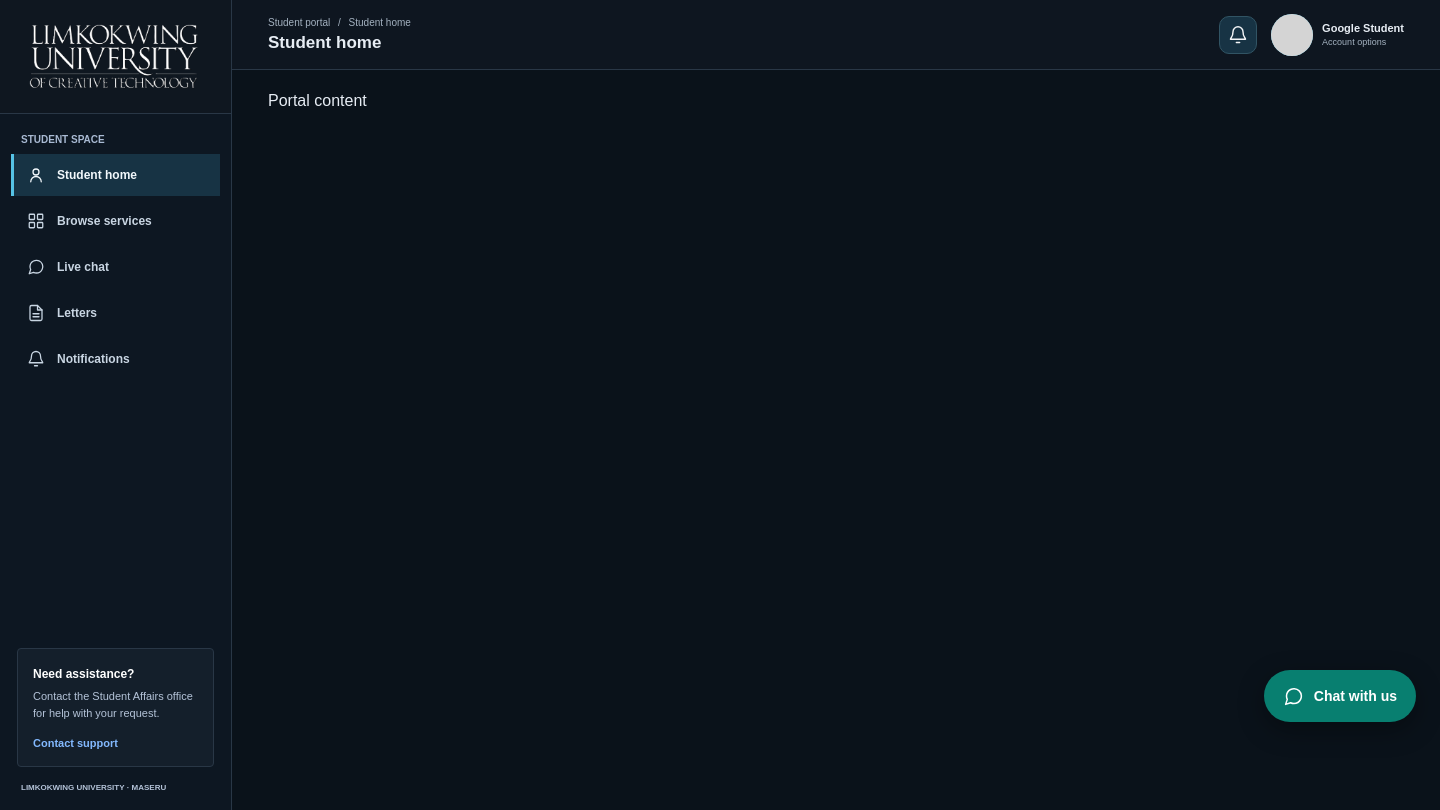
Scenario: student account menu links to letters and opens a Google-photo profile before sign-out
The image size is (1440, 810).
What coordinates should you click on to do the following:
click the button with aria-label "Account menu for Google Student"
I would click on:
 (1338, 34)
Its box is [1271,14,1404,56].
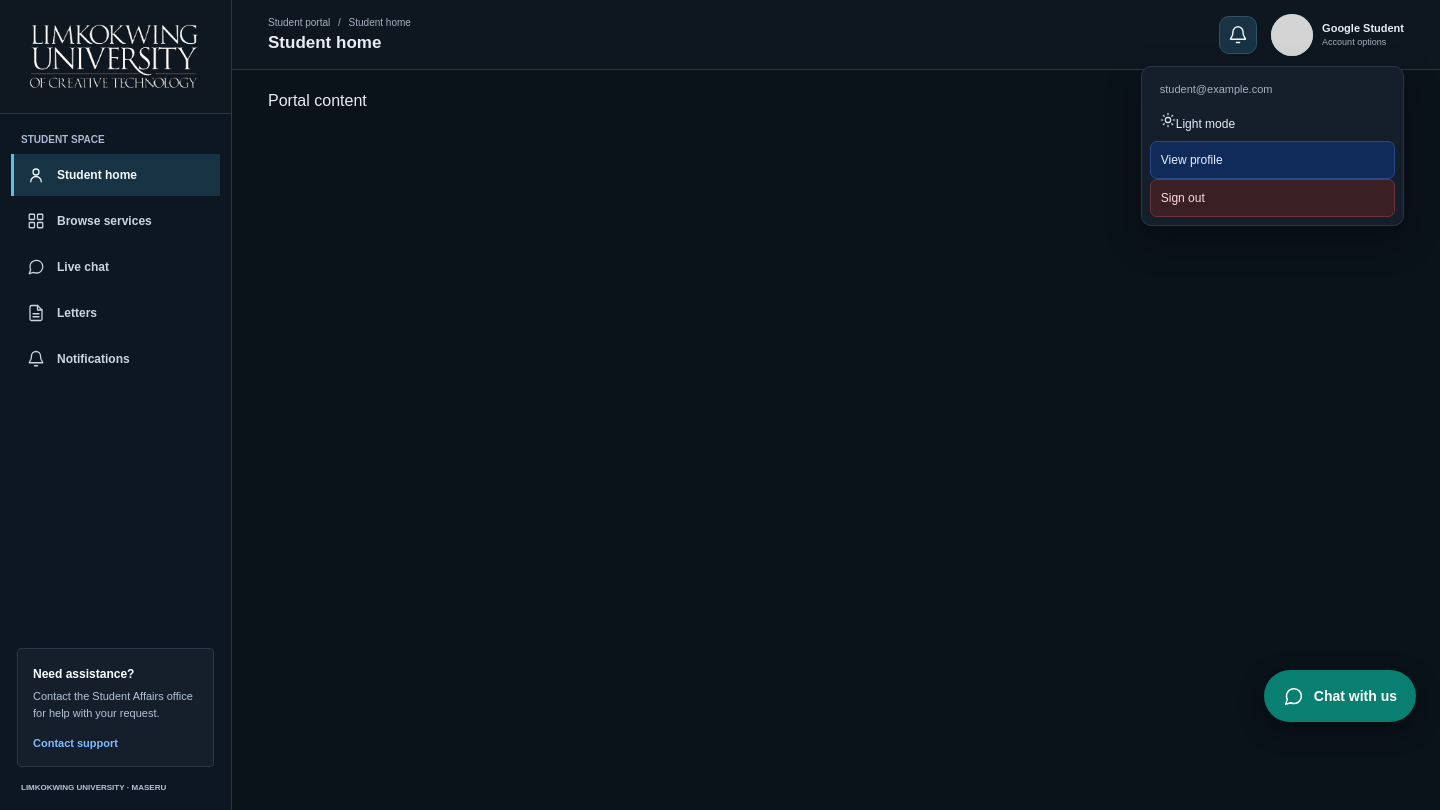
Check: the menu items read "Light mode", "View profile", "Sign out", in this order
What coordinates should you click on to do the following:
click the menu item "View profile"
I would click on:
 (1272, 160)
Its box is [1150,140,1395,178].
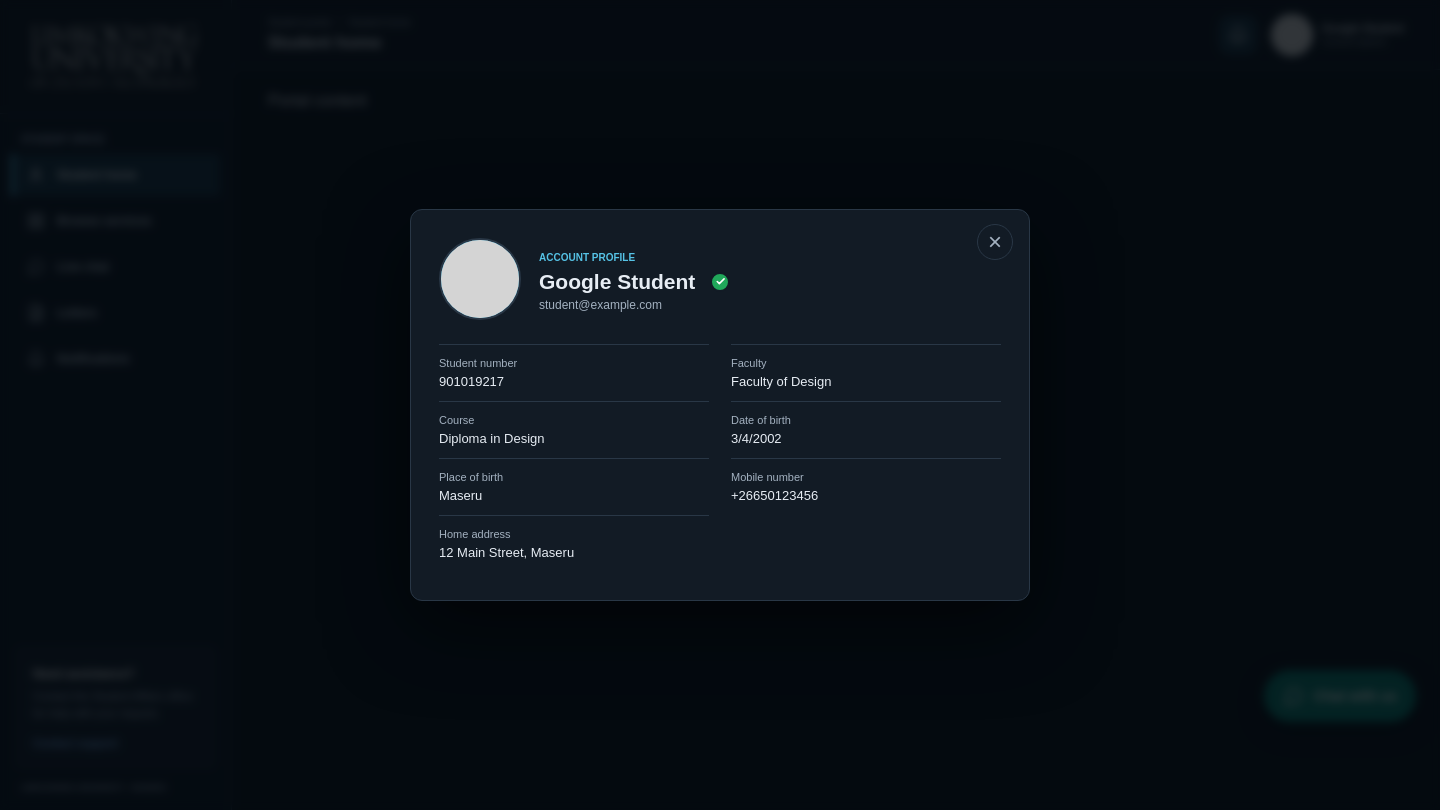
Check: the dialog "Google Student" is shown, box [410,209,1030,601]
Check: the text "901019217" is shown, box [439,374,504,389]
Check: the text "Faculty of Design" is shown, box [731,374,831,389]
